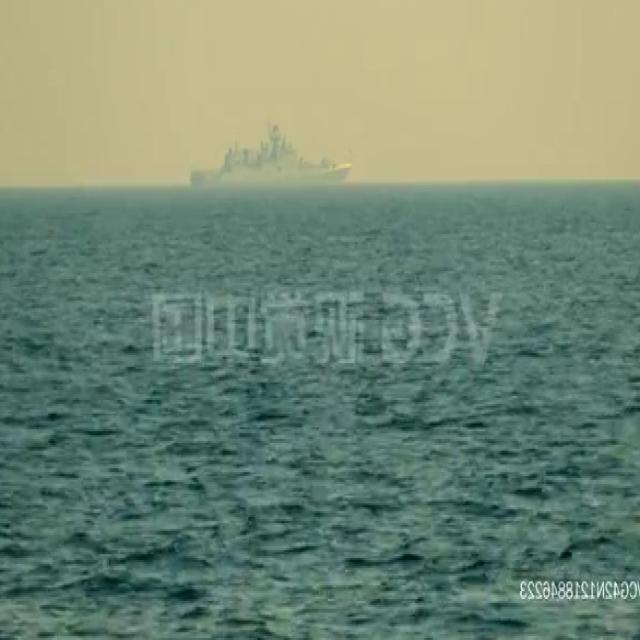navalvessels: (188, 115, 354, 193)
